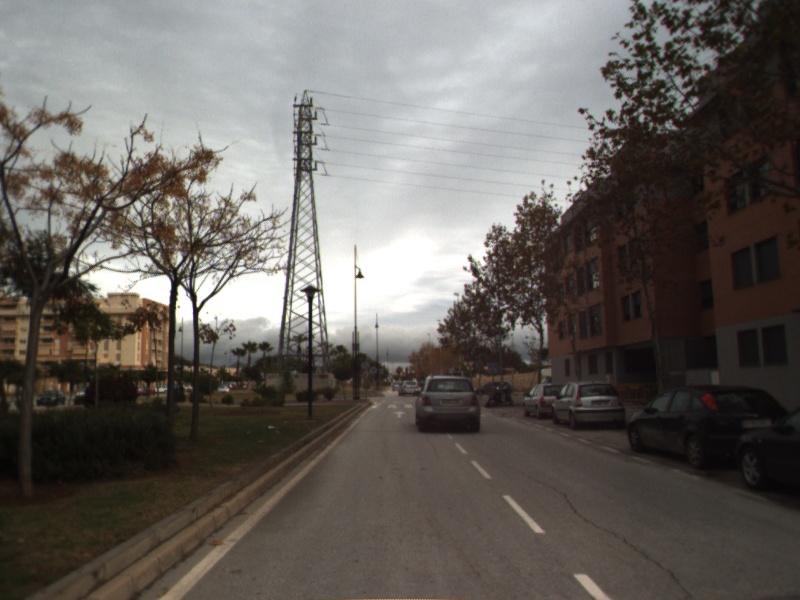STRAIGHT: (392, 409, 407, 420)
